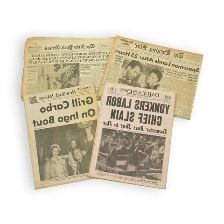news_paper: (83, 79, 180, 192), (91, 32, 205, 123), (20, 81, 104, 193), (14, 31, 117, 103)
